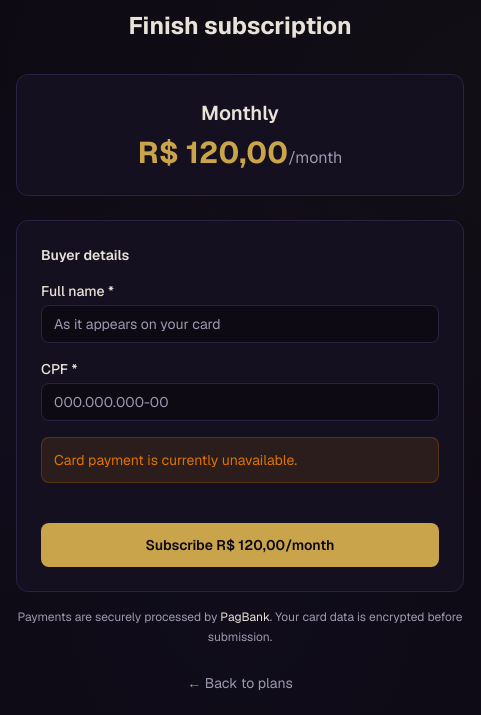
Test case: CheckoutPage › shows validation errors for name and CPF
expect the button "Subscribe R$ 120,00/month" is shown: met, box [41,523,439,567]
In the field labelled "Full name *": [240, 324] box [41,305,439,343], type "Al"
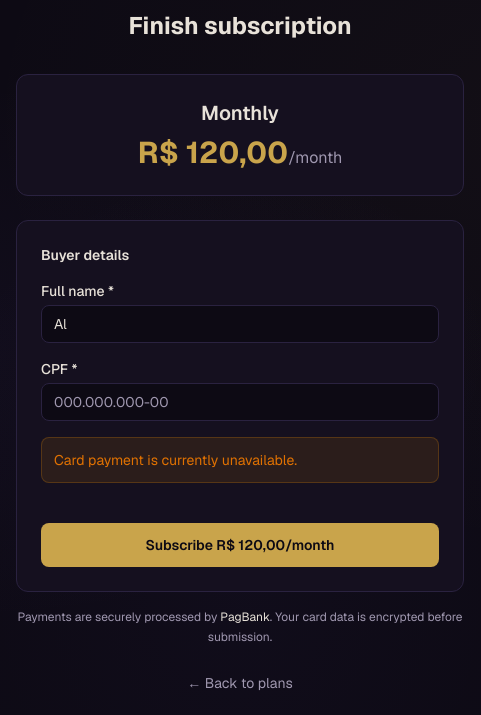
In the field labelled "CPF *": [240, 402] box [41,383,439,421], type "123"
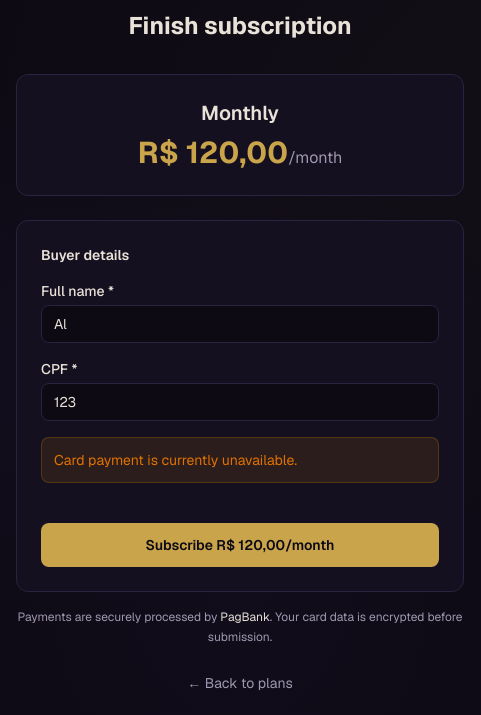
Click the button "Subscribe R$ 120,00/month": [240, 545] box [41,523,439,567]
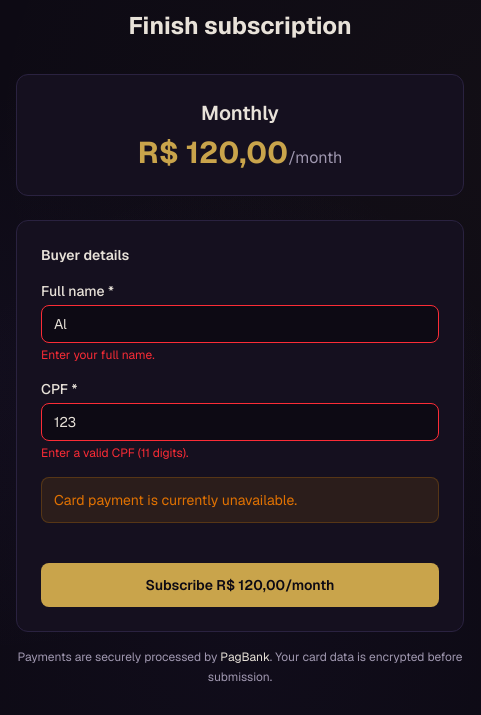
expect the text "Enter your full name." is shown: met, box [41,347,155,363]
expect the text "Enter a valid CPF (11 digits)." is shown: met, box [41,445,188,461]
